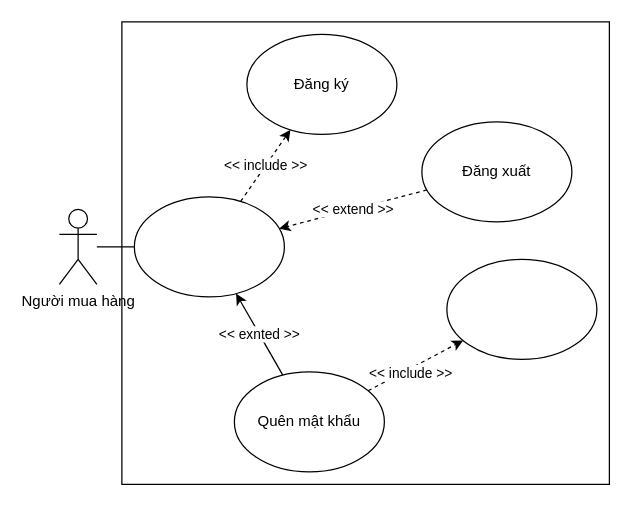
This 631x506 diagram has some shape labels left out. The shapes that lost their labels are listed below. From the top down, each one's centre as x and y in pixels, then its label:
At (208,246): "Đăng nhập".
At (521,308): "Xác thực OTP Email".
